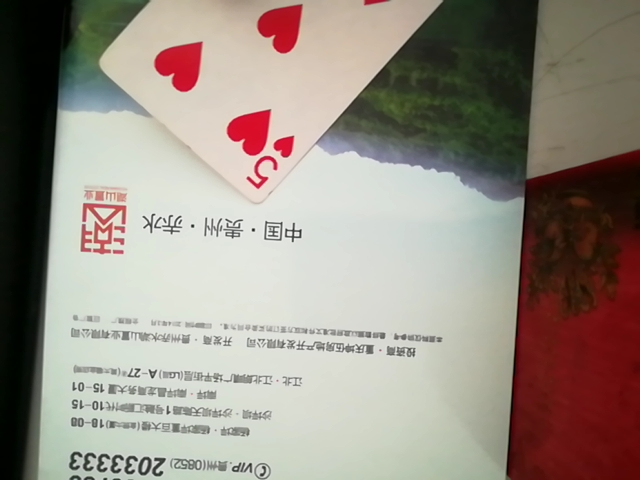hx 5: (95, 0, 454, 200)
